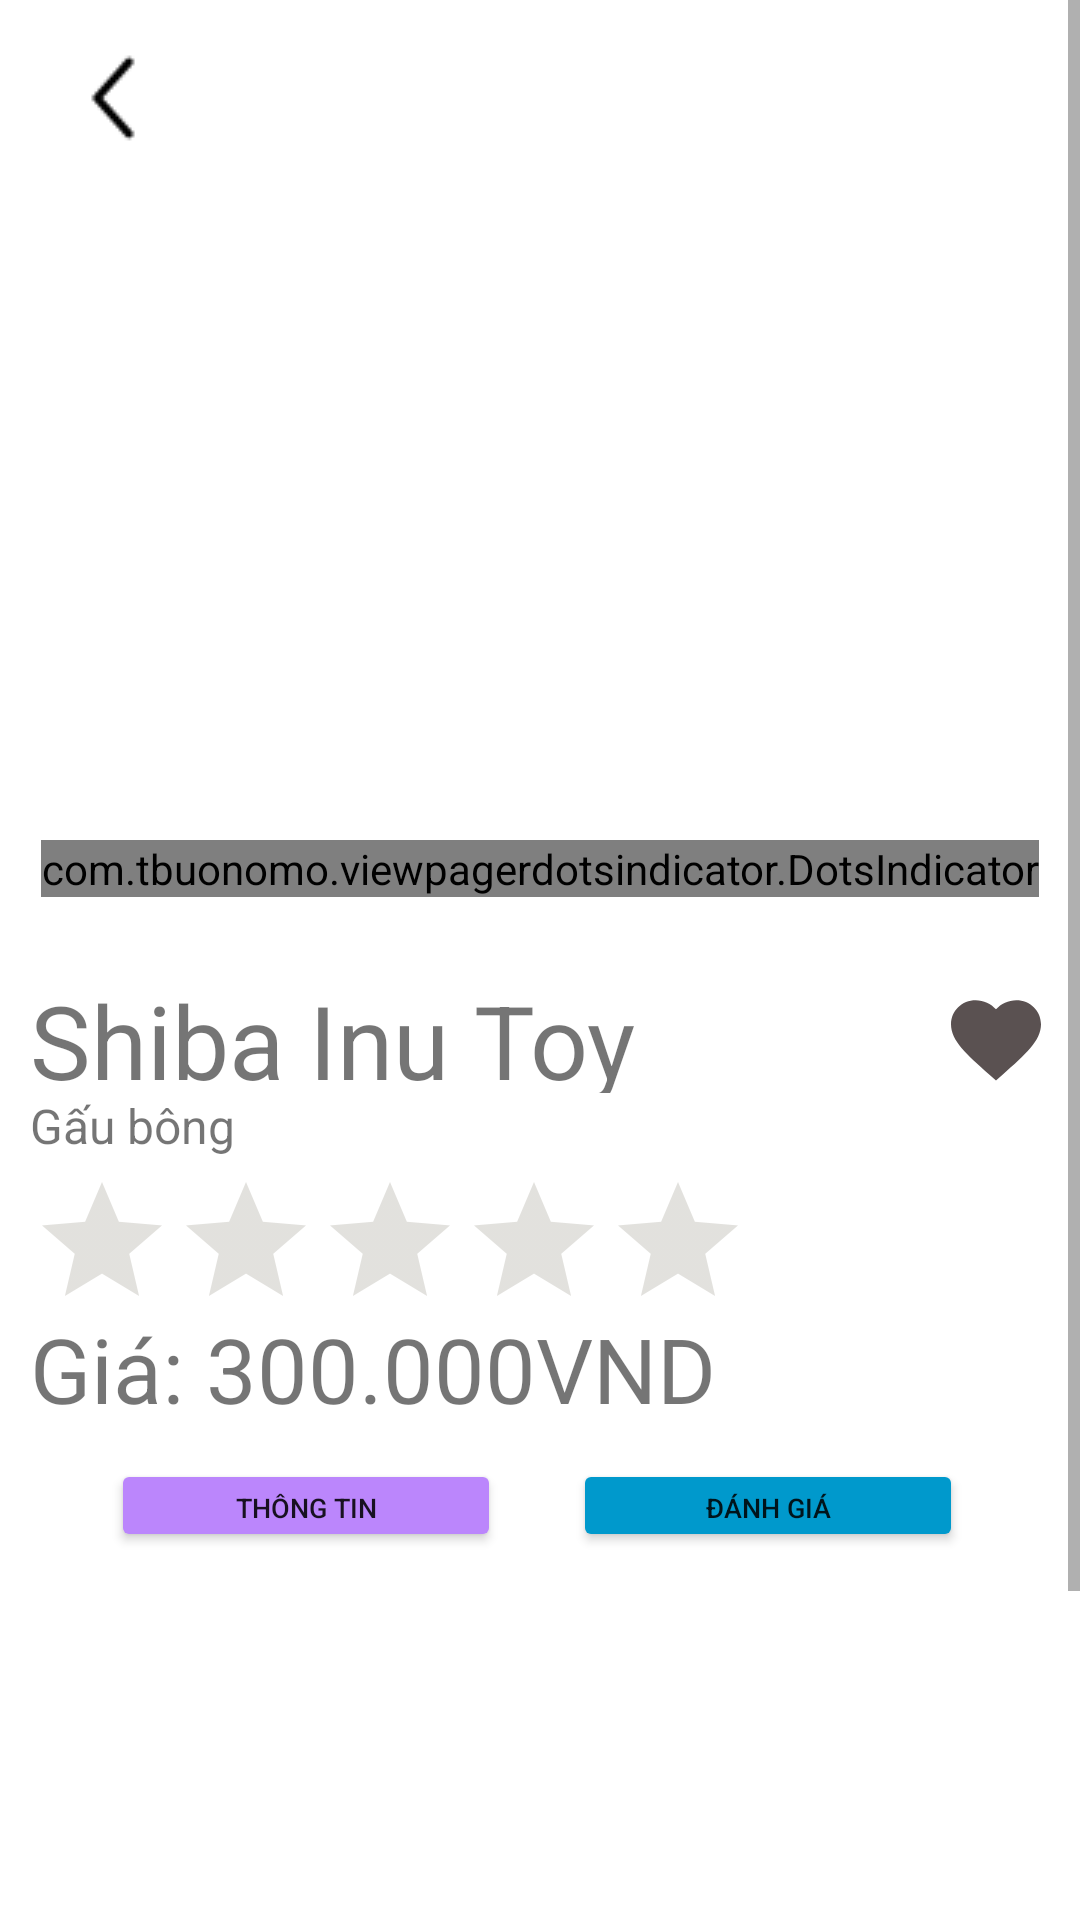

Named icons in this screenshot (1080 x 1920) and their centers, point (x, y):
favorite: point (996, 1040)
left: point (113, 97)
